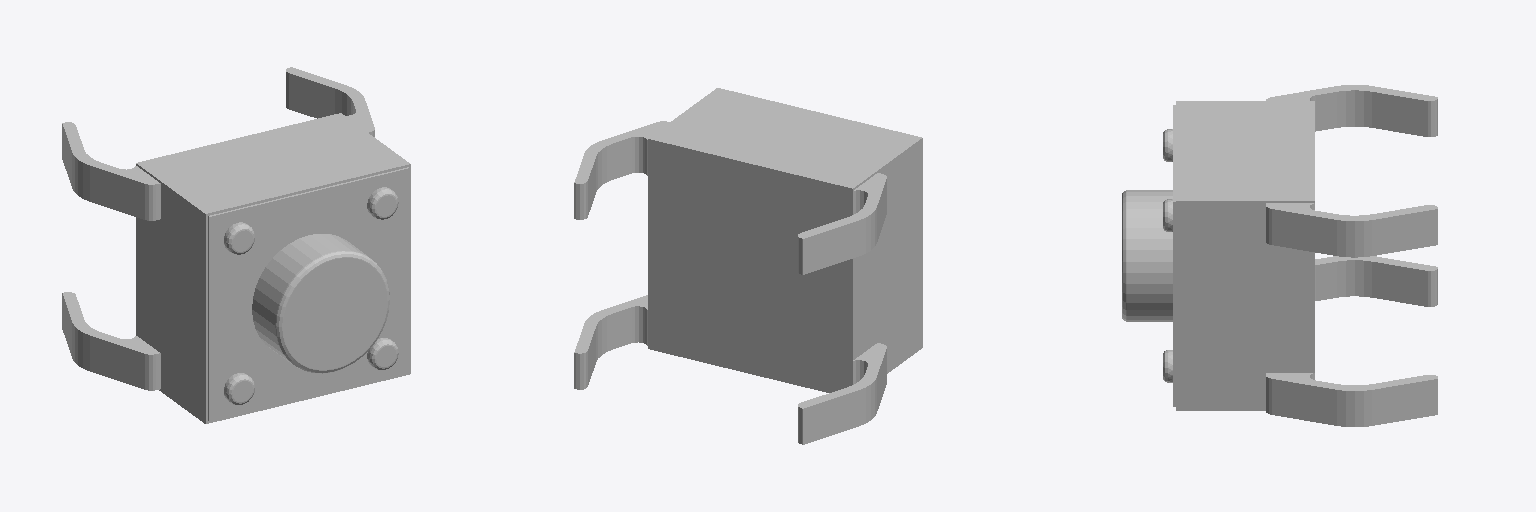
The model's file is Tactal Switch -Thru (6mmx 6mmx5.0mm).obj.
3 views of the same model, side by side, from view 1: azimuth 30°, elevation 25°; view 2: azimuth 150°, elevation 25°; view 3: azimuth 270°, elevation 25° (orthographic).
Parts seen in each view (by area): view 1: Solid1; view 2: Solid1; view 3: Solid1.
Part boxes in pixels (x1,y1,x2,y2): Solid1: (62, 67, 410, 423); Solid1: (574, 88, 922, 444); Solid1: (1122, 85, 1437, 426).
Size of the model in its own units: 8.37 by 5.99 by 8.18.